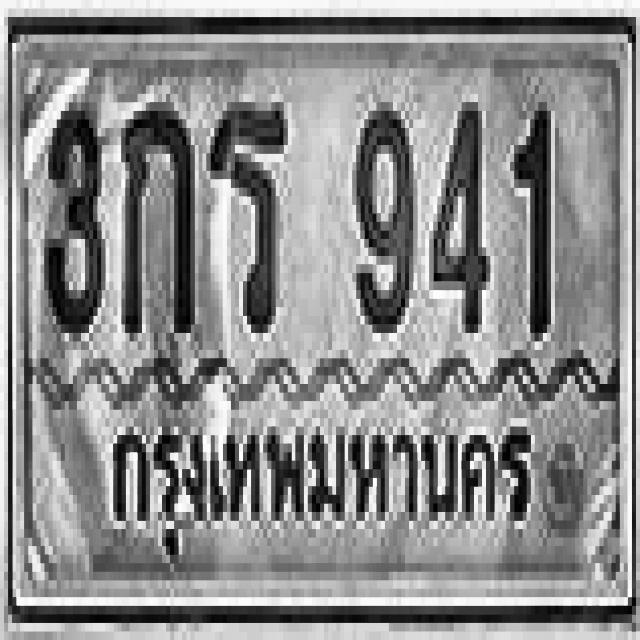license-plate: (13, 35, 630, 606)
